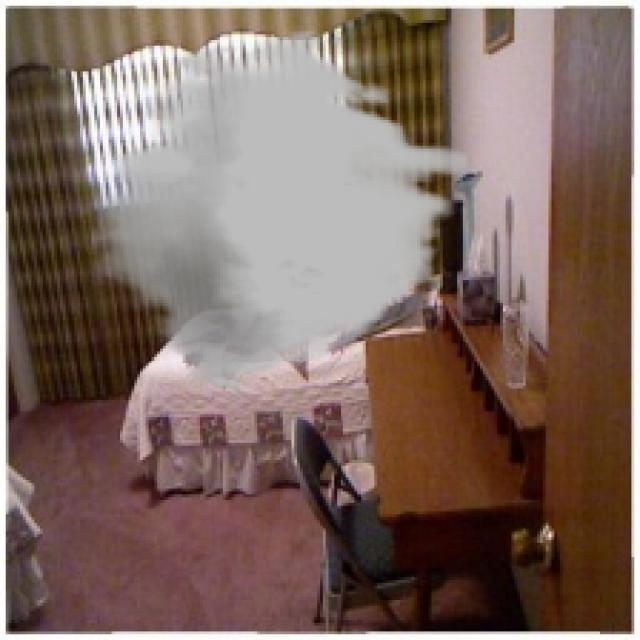Smoke: (91, 29, 468, 392)
